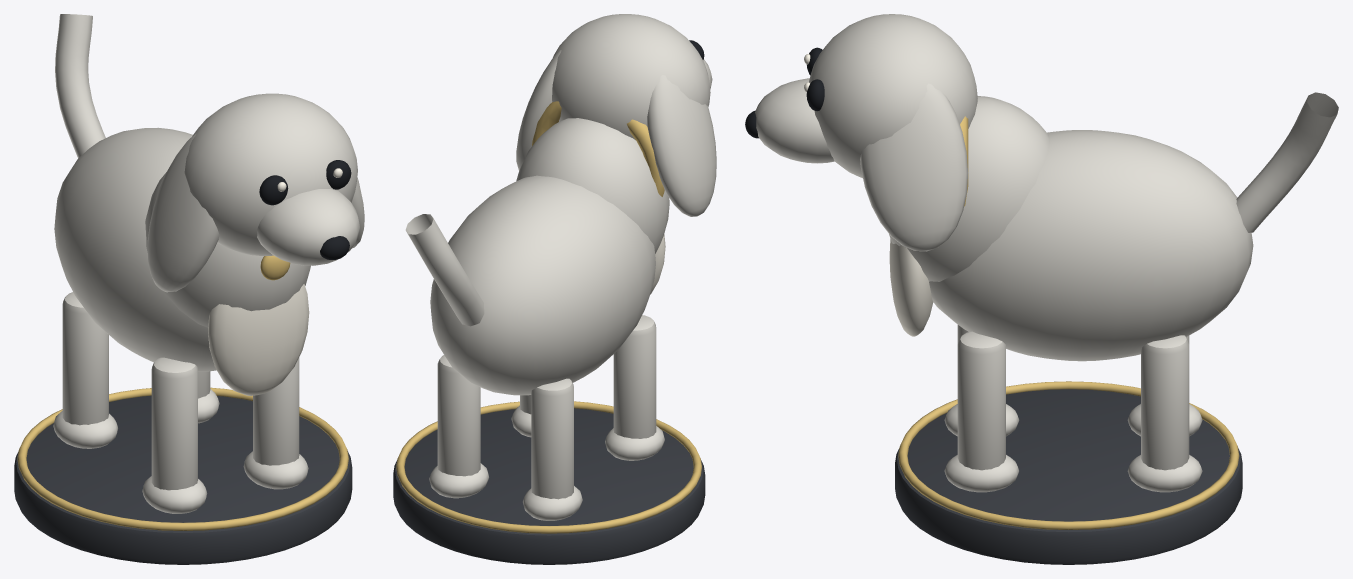
Rendered from dog.glb.
3 views of the same model, side by side, from view 1: azimuth 30°, elevation 25°; view 2: azimuth 150°, elevation 25°; view 3: azimuth 270°, elevation 25° (orthographic). The views are drawn at different scales.
Parts seen in each view (by area): view 1: TOKEN_BODY, TOKEN_BASE, TOKEN_DETAILS; view 2: TOKEN_BODY, TOKEN_BASE, TOKEN_DETAILS; view 3: TOKEN_BODY, TOKEN_BASE, TOKEN_DETAILS.
Part boxes in pixels (box(x1,y1,x2,y2)): TOKEN_BODY: box(53, 14, 364, 513); TOKEN_BASE: box(14, 395, 352, 564); TOKEN_DETAILS: box(17, 160, 351, 530); TOKEN_BODY: box(405, 14, 716, 520); TOKEN_BASE: box(393, 408, 705, 564); TOKEN_DETAILS: box(396, 40, 704, 533); TOKEN_BODY: box(755, 14, 1338, 492); TOKEN_BASE: box(895, 389, 1242, 564); TOKEN_DETAILS: box(745, 47, 1239, 529).
Bounding box in the file's own units: 0.26 × 0.388 × 0.4439.
